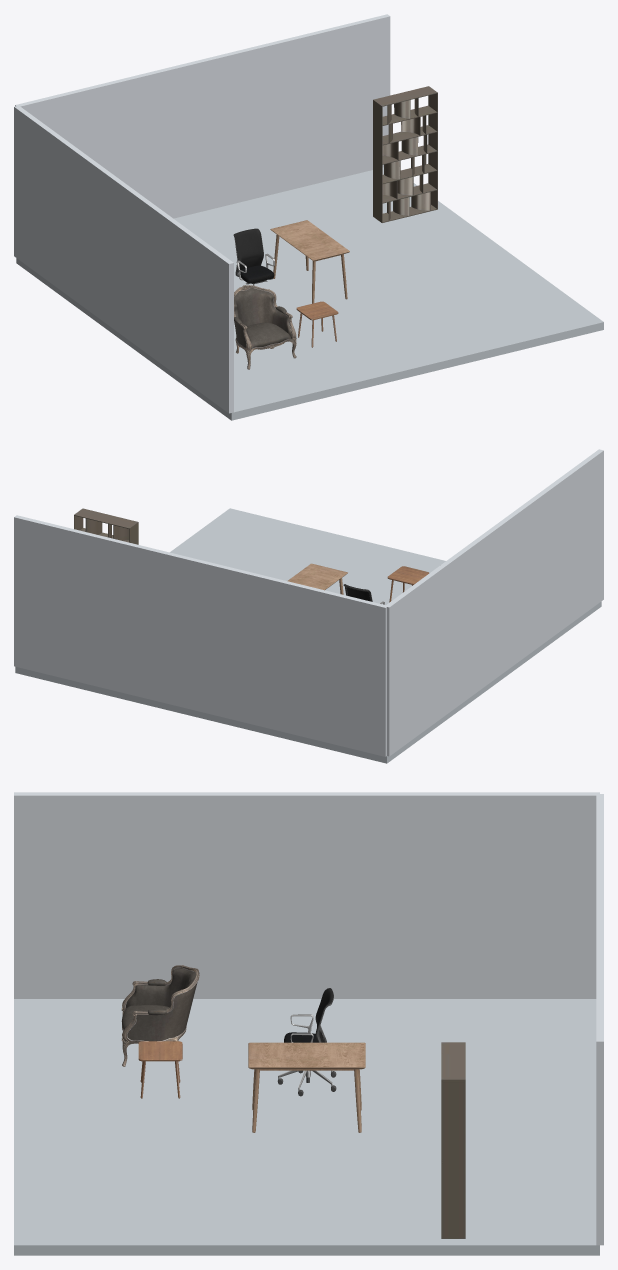
The model's file is stage2.glb.
The picture shows the model from 3 angles, top to bottom: view 1: azimuth 30°, elevation 25°; view 2: azimuth 150°, elevation 25°; view 3: azimuth 270°, elevation 25°; orthographic projection. The views are drawn at different scales.
Visible parts, largest first — view 1: Floor, wall_back, wall_left, raw_model.002, raw_model.003, raw_model, raw_model.001, raw_model.004; view 2: wall_back, wall_left, Floor, raw_model.002, raw_model, raw_model.004; view 3: Floor, wall_left, raw_model.002, raw_model.003, raw_model, wall_back, raw_model.001, raw_model.004.
Part boxes in pixels (left/top/right/bottom): Floor: left=16, top=167, right=603, bottom=420; wall_back: left=15, top=14, right=390, bottom=218; wall_left: left=14, top=105, right=233, bottom=413; raw_model.002: left=373, top=86, right=437, bottom=222; raw_model.003: left=234, top=285, right=296, bottom=369; raw_model: left=270, top=220, right=349, bottom=303; raw_model.001: left=233, top=228, right=274, bottom=292; raw_model.004: left=296, top=301, right=338, bottom=347; wall_back: left=14, top=515, right=387, bottom=756; wall_left: left=386, top=449, right=603, bottom=756; Floor: left=15, top=508, right=601, bottom=763; raw_model.002: left=74, top=508, right=138, bottom=544; raw_model: left=287, top=563, right=347, bottom=594; raw_model.004: left=387, top=566, right=429, bottom=602; Floor: left=14, top=999, right=599, bottom=1255; wall_left: left=14, top=792, right=599, bottom=998; raw_model.002: left=441, top=1042, right=465, bottom=1238; raw_model.003: left=121, top=965, right=199, bottom=1066; raw_model: left=248, top=1042, right=365, bottom=1132; wall_back: left=596, top=794, right=603, bottom=1245; raw_model.001: left=277, top=988, right=336, bottom=1096; raw_model.004: left=138, top=1041, right=182, bottom=1098.
Bounding box in the file's own units: 6.04 × 2.42 × 6.04.
Materials: 7 (5 with a texture image).
